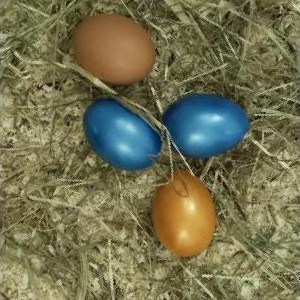egg: (73, 15, 155, 85), (152, 172, 217, 259), (84, 99, 162, 169), (163, 95, 249, 158)
